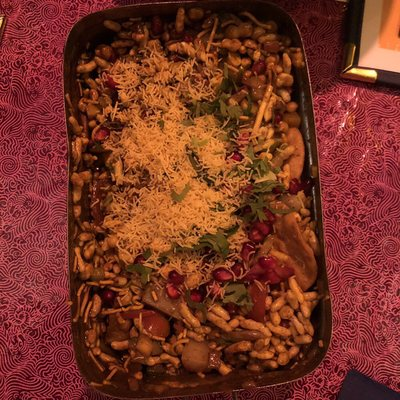curry: (1, 0, 374, 331)
